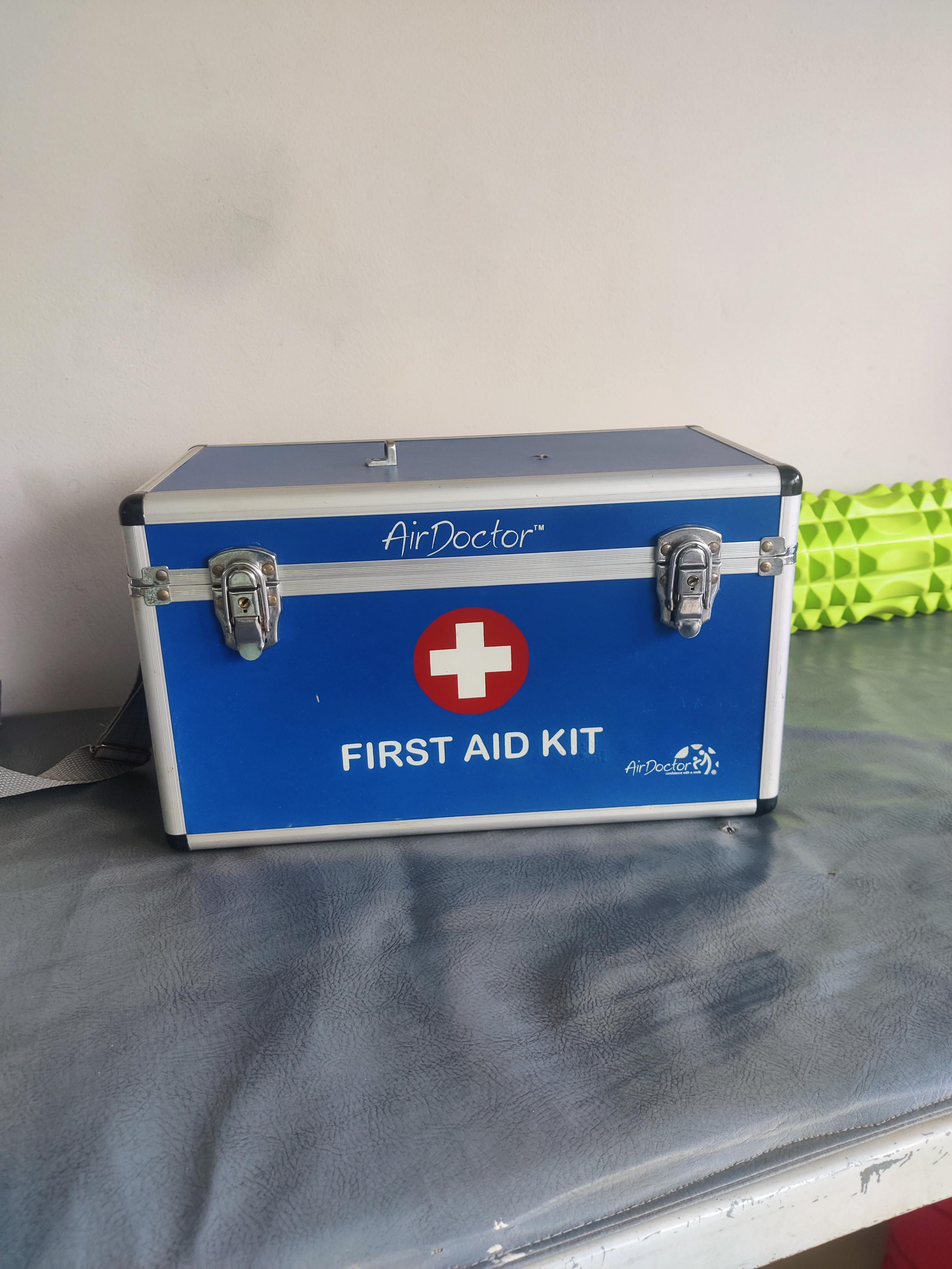FirstAidBox: (84, 401, 833, 870)
